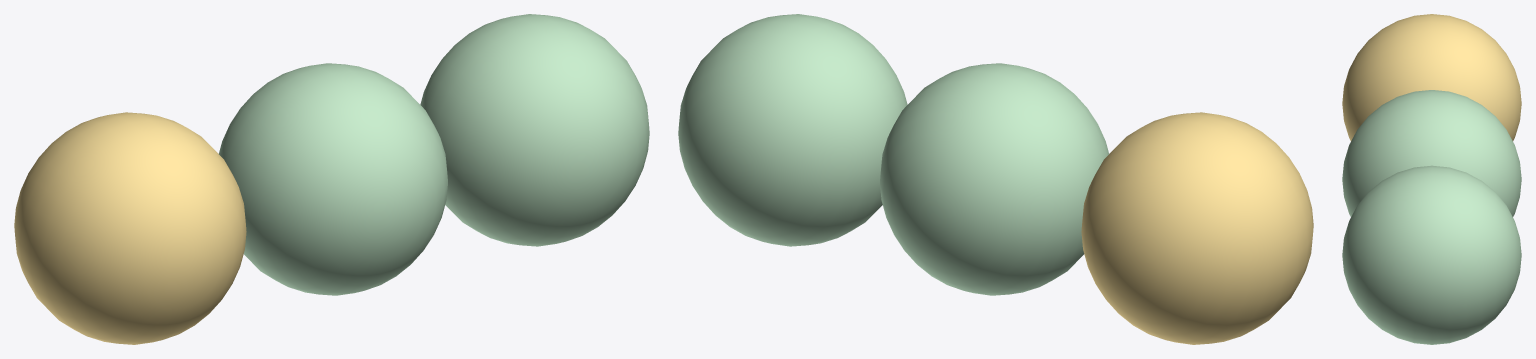
The model's file is BRDFs.glb.
The picture shows the model from 3 angles, left to right: view 1: azimuth 30°, elevation 25°; view 2: azimuth 150°, elevation 25°; view 3: azimuth 270°, elevation 25°; orthographic projection. The views are drawn at different scales.
Parts seen in each view (by area): view 1: Sphere.002, Sphere.001, Sphere; view 2: Sphere.002, Sphere.001, Sphere; view 3: Sphere.001, Sphere.002, Sphere.
Part boxes in pixels (box(x1,y1,x2,y2)): Sphere.002: box(14, 112, 246, 344); Sphere.001: box(420, 14, 649, 246); Sphere: box(219, 63, 447, 295); Sphere.002: box(1081, 112, 1313, 344); Sphere.001: box(678, 14, 907, 246); Sphere: box(880, 63, 1108, 295); Sphere.001: box(1342, 165, 1521, 344); Sphere.002: box(1342, 14, 1521, 140); Sphere: box(1342, 90, 1521, 216).
Size of the model in its own units: 6 by 2 by 2.
